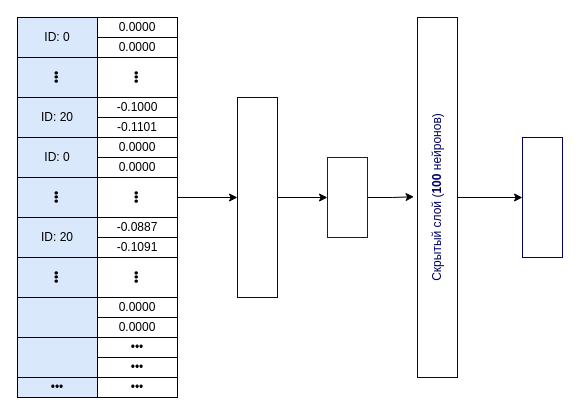
Image size: 580x415. Some labels were removed from this diagram. Each missing label, with the box of its shape:
LSTM ( 50 выходов): (236, 96, 278, 298)
Выходной слой ( n нейронов): (522, 136, 562, 258)
Дропаут 20%: (326, 156, 368, 238)
